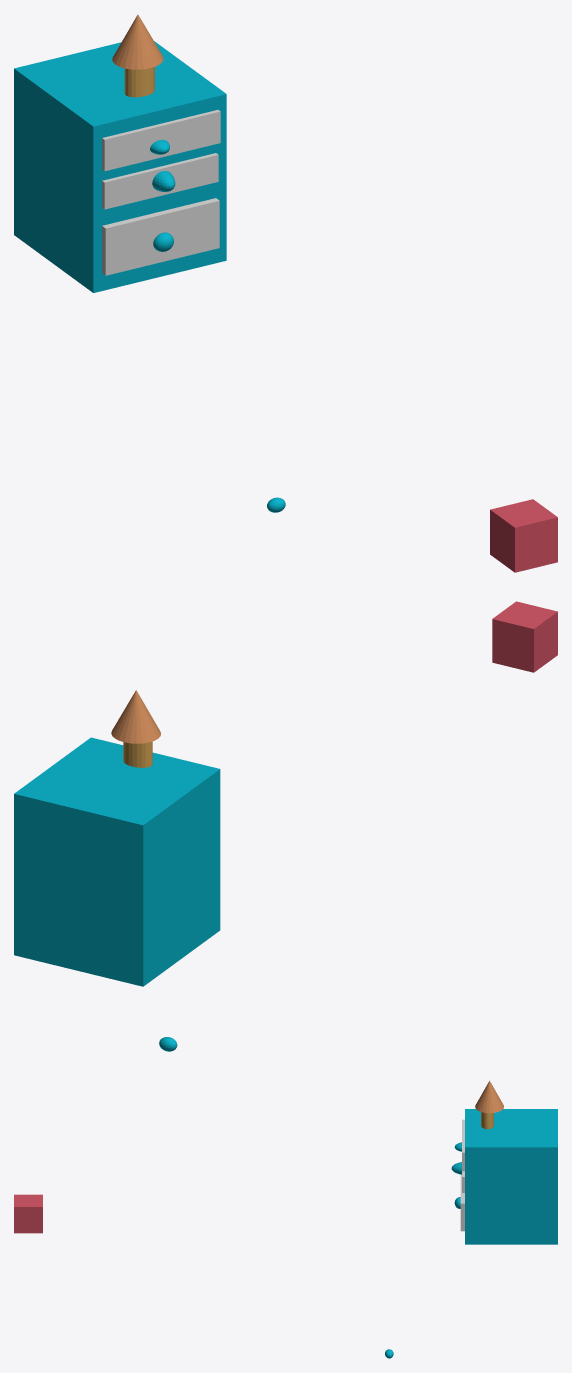
File: side table.glb
The picture shows the model from 3 angles, top to bottom: view 1: azimuth 30°, elevation 25°; view 2: azimuth 150°, elevation 25°; view 3: azimuth 270°, elevation 25°; orthographic projection. The views are drawn at different scales.
Parts seen in each view (by area): view 1: Mesh_Mesh_head_geo.001_lambert2SG.001; view 2: Mesh_Mesh_head_geo.001_lambert2SG.001; view 3: Mesh_Mesh_head_geo.001_lambert2SG.001.
Part boxes in pixels (x1=…): Mesh_Mesh_head_geo.001_lambert2SG.001: x1=14, y1=14, x2=557, y2=572; Mesh_Mesh_head_geo.001_lambert2SG.001: x1=14, y1=601, x2=557, y2=1051; Mesh_Mesh_head_geo.001_lambert2SG.001: x1=14, y1=1080, x2=557, y2=1358.
Size of the model in its own units: 62 by 199 by 374.
